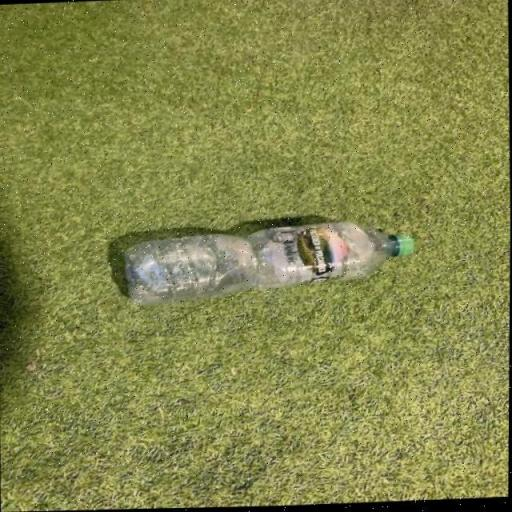plastic: (119, 215, 417, 304)
